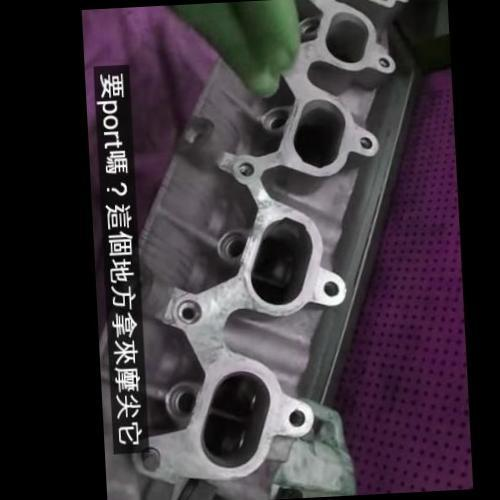hole: (176, 298, 204, 324), (288, 408, 308, 426), (237, 158, 255, 176), (322, 278, 340, 296), (359, 134, 374, 148), (378, 54, 391, 66)
